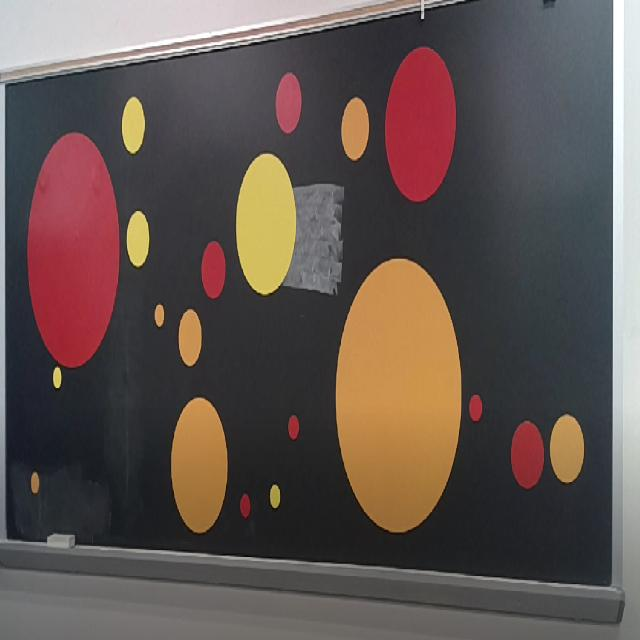Orange: (335, 258, 462, 534), (171, 398, 228, 532), (549, 414, 584, 482), (341, 97, 369, 159), (178, 308, 202, 367), (154, 303, 164, 327), (31, 472, 39, 493)
Red: (26, 130, 120, 366), (386, 45, 455, 205), (510, 420, 544, 490), (274, 72, 302, 134), (201, 243, 226, 297), (468, 395, 483, 420), (287, 415, 299, 439), (240, 494, 250, 518)
Yellow: (236, 152, 297, 296), (126, 211, 150, 267), (122, 96, 145, 154), (270, 485, 281, 509), (52, 367, 62, 388)
